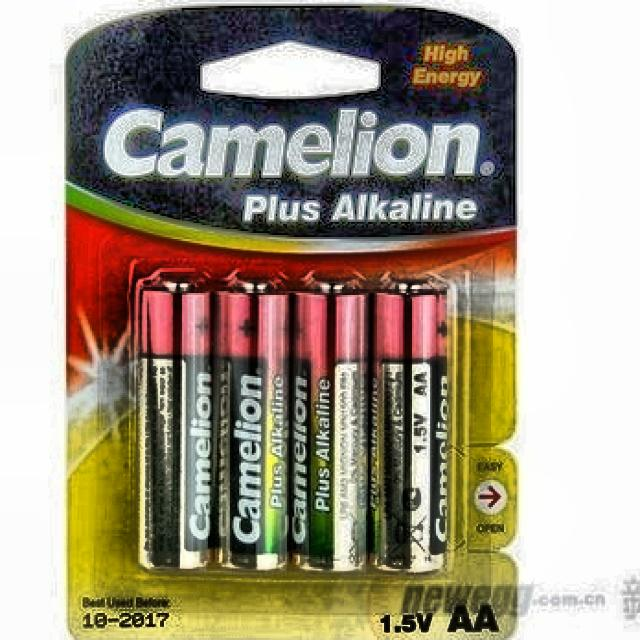Non-Valuable Waste - Batteries: (293, 285, 370, 570), (215, 282, 291, 569), (371, 286, 446, 571), (140, 281, 211, 567)
